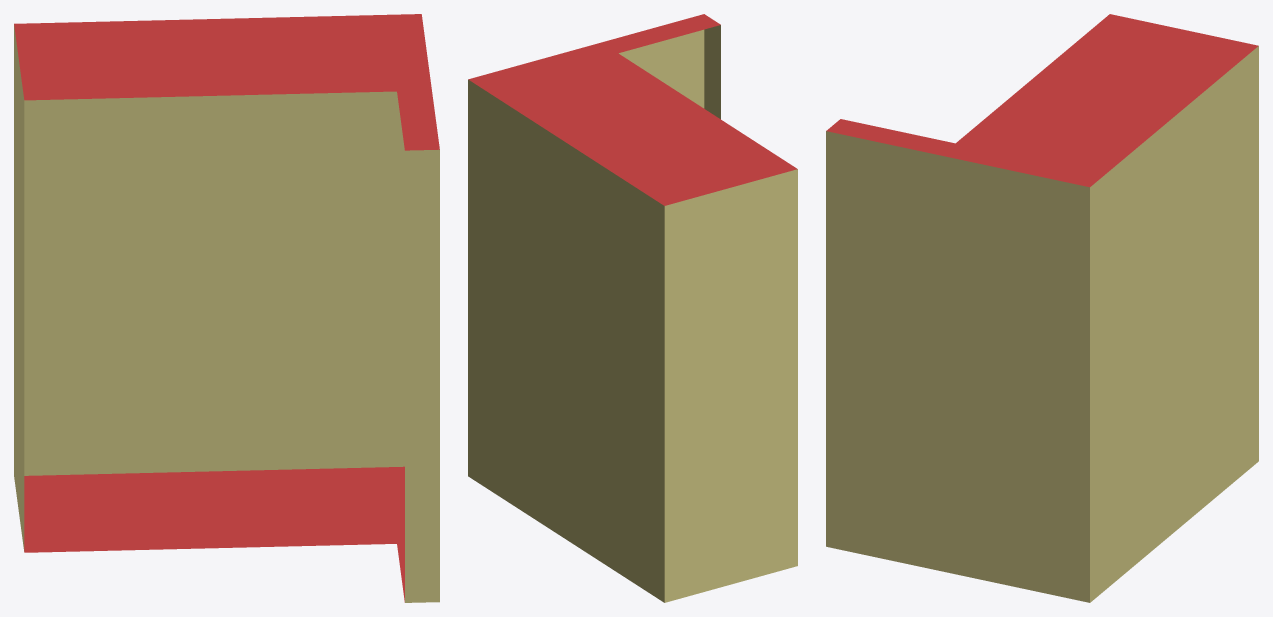
The picture shows the model from 3 angles, left to right: view 1: azimuth 30°, elevation 25°; view 2: azimuth 150°, elevation 25°; view 3: azimuth 270°, elevation 25°; orthographic projection. The views are drawn at different scales.
Parts seen in each view (by area): view 1: group_4, group_3, group_5; view 2: group_4, group_3; view 3: group_4, group_3.
Boxes of the visible parts, x1=… form: group_4: x1=14, y1=25, x2=439, y2=602; group_3: x1=14, y1=14, x2=439, y2=150; group_5: x1=24, y1=466, x2=404, y2=602; group_4: x1=468, y1=25, x2=797, y2=602; group_3: x1=468, y1=14, x2=797, y2=205; group_4: x1=826, y1=46, x2=1258, y2=602; group_3: x1=826, y1=14, x2=1258, y2=187.
Size of the model in its own units: 6.26 by 6.61 by 7.
